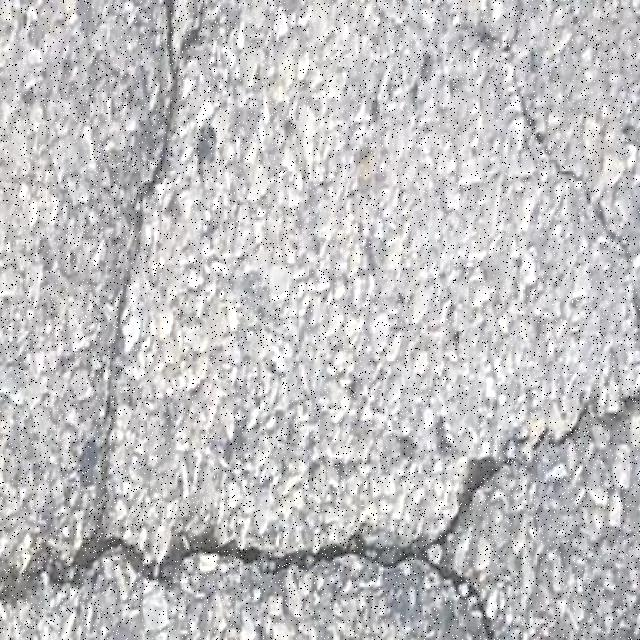Crack: (0, 0, 522, 640), (513, 72, 582, 188), (538, 391, 640, 448), (596, 209, 640, 316)
